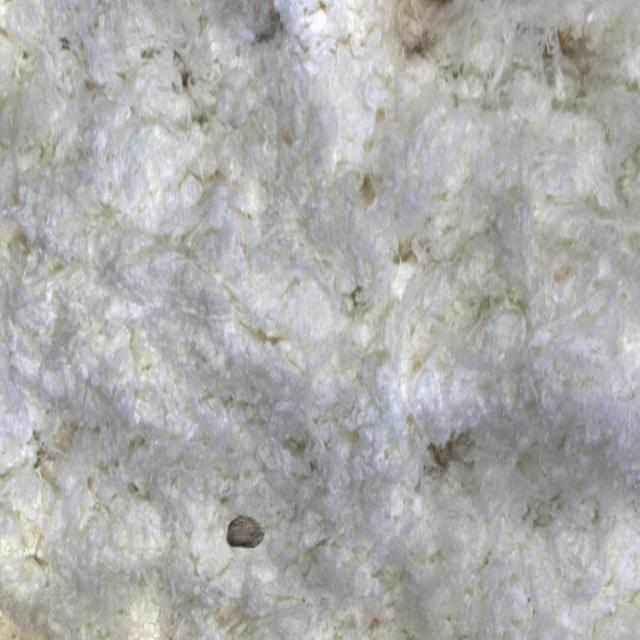dust: (207, 460, 295, 585)
